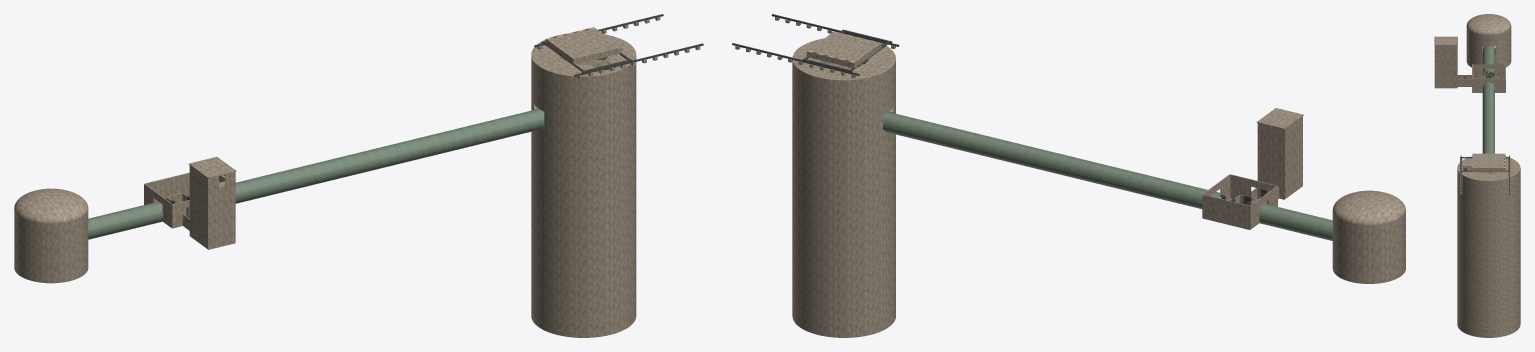
The model's file is coldwell-complex.gltf.
3 renders of one model, left to right at view 1: azimuth 30°, elevation 25°; view 2: azimuth 150°, elevation 25°; view 3: azimuth 270°, elevation 25°, orthographic. The views are drawn at different scales.
Visible parts, largest first — view 1: cableway-vault-17-seafoam-195, capsule-roof-20-concrete-178, shaft-exterior-21-concrete-42, shaft-cover-22-concrete-258, blast-lock-wall-17-concrete-200, shaft-exterior-20-concrete-40, shaft-floor-22-concrete-231, shaft-exterior-5-concrete-10, shaft-exterior-12-concrete-24, shaft-exterior-4-concrete-8, shaft-exterior-13-concrete-26, shaft-exterior-3-concrete-6 (+28 smaller); view 2: cableway-vault-17-seafoam-195, blast-lock-wall-17-concrete-200, capsule-roof-20-concrete-178, shaft-exterior-21-concrete-42, shaft-cover-22-concrete-258, shaft-floor-22-concrete-231, shaft-exterior-20-concrete-40, shaft-exterior-19-concrete-38, shaft-exterior-5-concrete-10, shaft-exterior-12-concrete-24, shaft-exterior-8-concrete-16, shaft-exterior-15-concrete-30 (+27 smaller); view 3: cableway-vault-17-seafoam-195, blast-lock-wall-17-concrete-200, capsule-roof-20-concrete-178, shaft-exterior-21-concrete-42, shaft-cover-22-concrete-258, shaft-floor-22-concrete-231, shaft-exterior-20-concrete-40, shaft-exterior-8-concrete-16, shaft-exterior-1-concrete-2, shaft-exterior-9-concrete-18, shaft-exterior-16-concrete-32, shaft-exterior-2-concrete-4 (+30 smaller).
Boxes of the visible parts, x1,y1,x2,y2 form: cableway-vault-17-seafoam-195: [88, 109, 544, 239]; capsule-roof-20-concrete-178: [14, 188, 88, 223]; shaft-exterior-21-concrete-42: [531, 33, 636, 88]; shaft-cover-22-concrete-258: [545, 27, 621, 64]; blast-lock-wall-17-concrete-200: [144, 172, 189, 227]; shaft-exterior-20-concrete-40: [531, 55, 636, 100]; shaft-floor-22-concrete-231: [531, 34, 636, 77]; shaft-exterior-5-concrete-10: [531, 246, 636, 278]; shaft-exterior-12-concrete-24: [531, 163, 636, 195]; shaft-exterior-4-concrete-8: [531, 258, 636, 290]; shaft-exterior-13-concrete-26: [531, 151, 636, 183]; shaft-exterior-3-concrete-6: [531, 270, 636, 302]; cableway-vault-17-seafoam-195: [883, 112, 1332, 240]; blast-lock-wall-17-concrete-200: [1202, 174, 1277, 229]; capsule-roof-20-concrete-178: [1333, 190, 1405, 225]; shaft-exterior-21-concrete-42: [792, 38, 895, 91]; shaft-cover-22-concrete-258: [806, 31, 881, 68]; shaft-floor-22-concrete-231: [793, 39, 895, 80]; shaft-exterior-20-concrete-40: [792, 60, 895, 103]; shaft-exterior-19-concrete-38: [792, 65, 895, 115]; shaft-exterior-5-concrete-10: [792, 246, 895, 279]; shaft-exterior-12-concrete-24: [792, 164, 895, 197]; shaft-exterior-8-concrete-16: [792, 211, 895, 244]; shaft-exterior-15-concrete-30: [792, 129, 895, 162]; cableway-vault-17-seafoam-195: [1482, 46, 1494, 153]; blast-lock-wall-17-concrete-200: [1472, 64, 1505, 92]; capsule-roof-20-concrete-178: [1466, 14, 1511, 35]; shaft-exterior-21-concrete-42: [1457, 156, 1520, 187]; shaft-cover-22-concrete-258: [1472, 153, 1505, 171]; shaft-floor-22-concrete-231: [1458, 158, 1519, 181]; shaft-exterior-20-concrete-40: [1457, 166, 1520, 195]; shaft-exterior-8-concrete-16: [1457, 260, 1520, 280]; shaft-exterior-1-concrete-2: [1457, 310, 1520, 330]; shaft-exterior-9-concrete-18: [1457, 253, 1520, 273]; shaft-exterior-16-concrete-32: [1457, 203, 1520, 223]; shaft-exterior-2-concrete-4: [1457, 303, 1520, 323].
Bounding box in the file's own units: 124 × 49 × 23.16.
10 materials, 6 textured.
